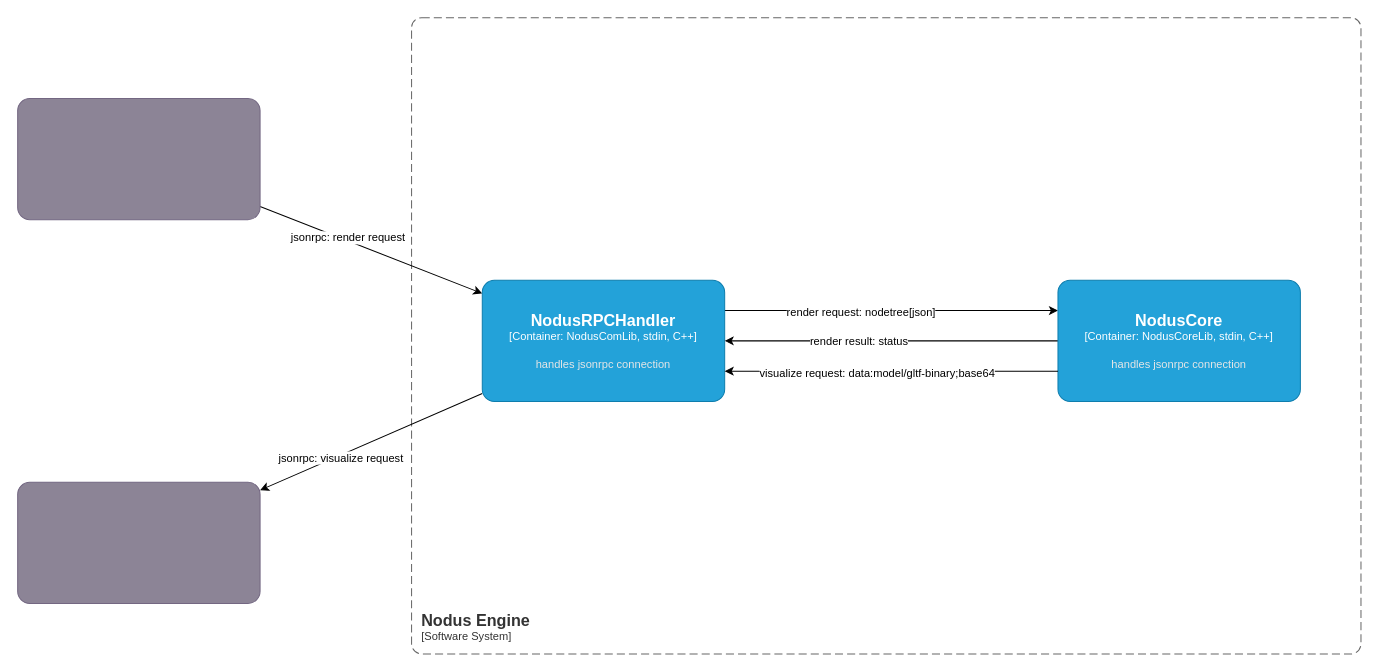
The diagram is 1379 pixels wide and 672 high, and some of its shapes have lost their labels. The box of each missing label's shape, as (x1, y1, x2, y2) in pixels:
Nodus Model TSX Compiler [Software System] Model Editor: (17, 97, 260, 220)
Nodus Renderer [Software System] Model Editor: (17, 481, 260, 603)
